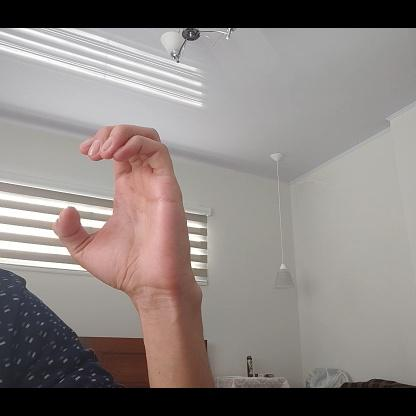C: (56, 122, 195, 290)
